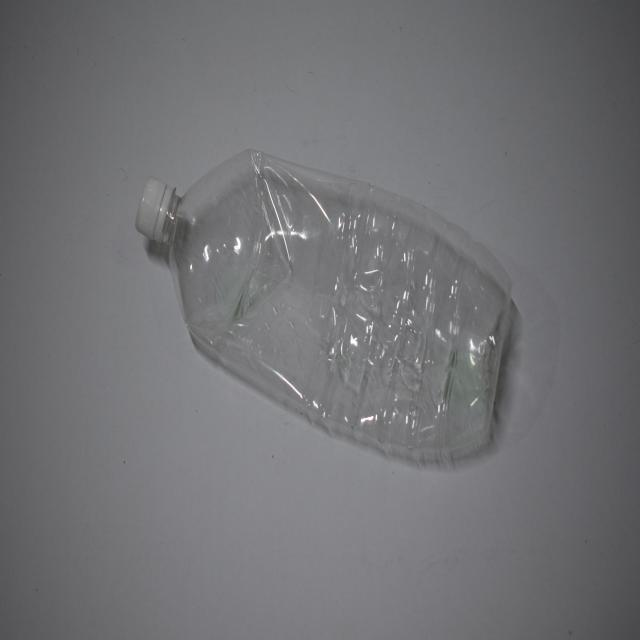empty: (136, 150, 510, 460)
